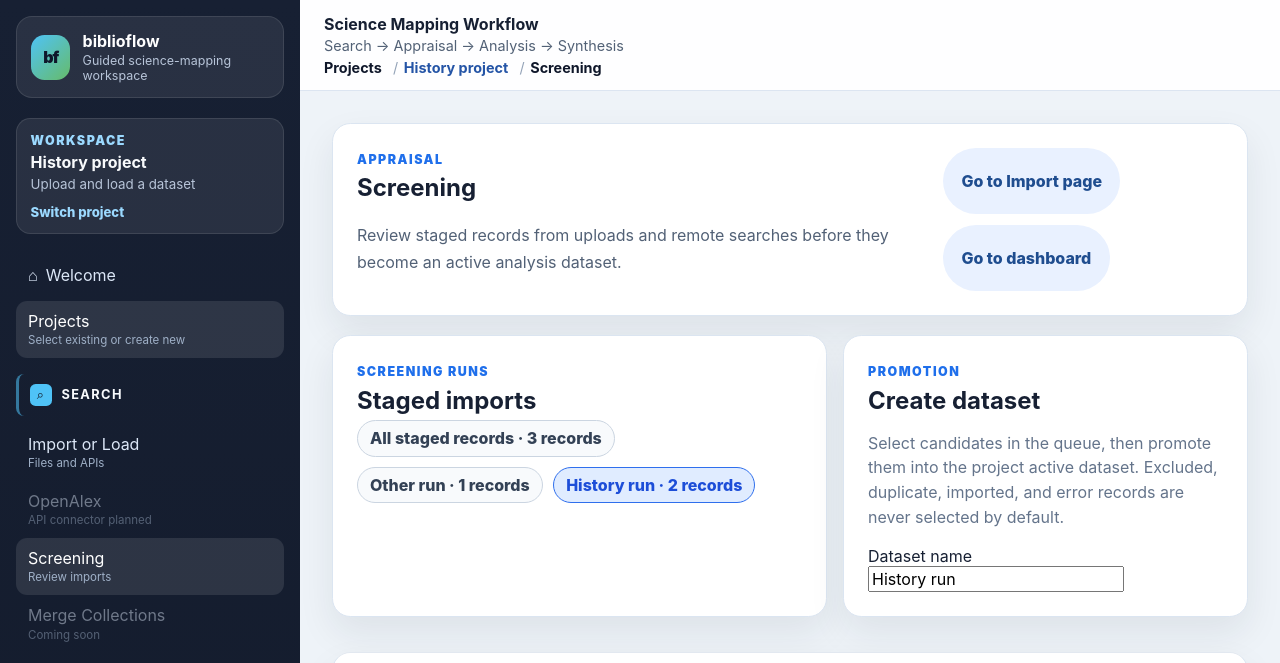
Test: remote source import › reviews staged search history and surfaces screening action errors
The width and height of the screenshot is (1280, 663).
Click the button "History run · 2 records".
click(654, 485)  # box top-left (553, 467), bottom-right (755, 503)
(page scrolled)
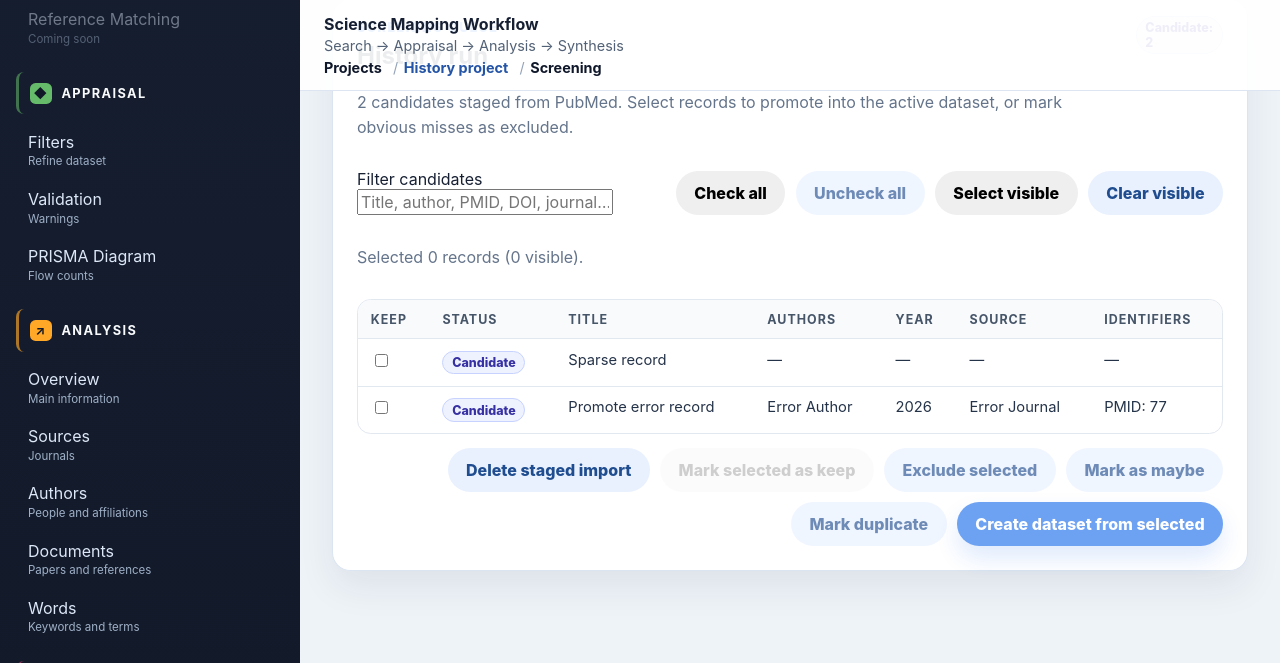
Expected: the text "Sparse record" is shown, top-left (555, 339), bottom-right (754, 386)
Expected: the 1st text "—" is shown, top-left (754, 339), bottom-right (883, 386)
Click the checkbox named "Select Sparse record".
click(381, 360)  # box top-left (375, 354), bottom-right (388, 367)
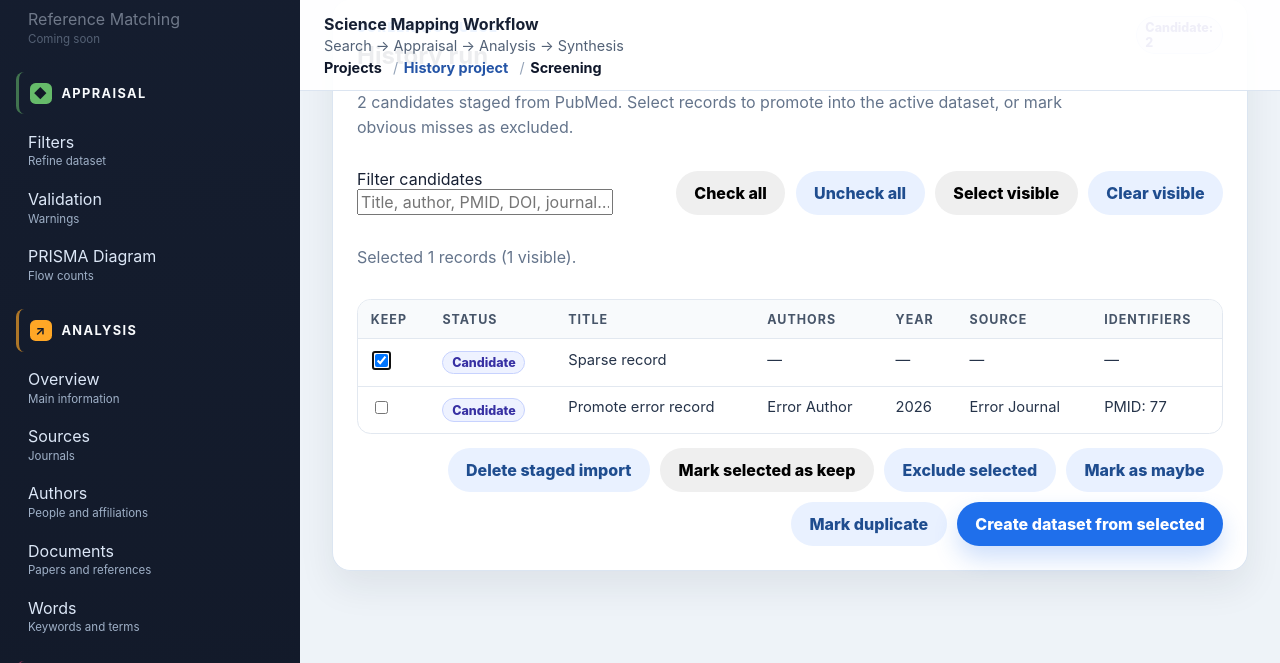
Now the text "Selected 1 records (1 visible)." is shown, box top-left (357, 247), bottom-right (576, 267)
Click the button "Exclude selected".
click(970, 470)  # box top-left (884, 448), bottom-right (1056, 492)
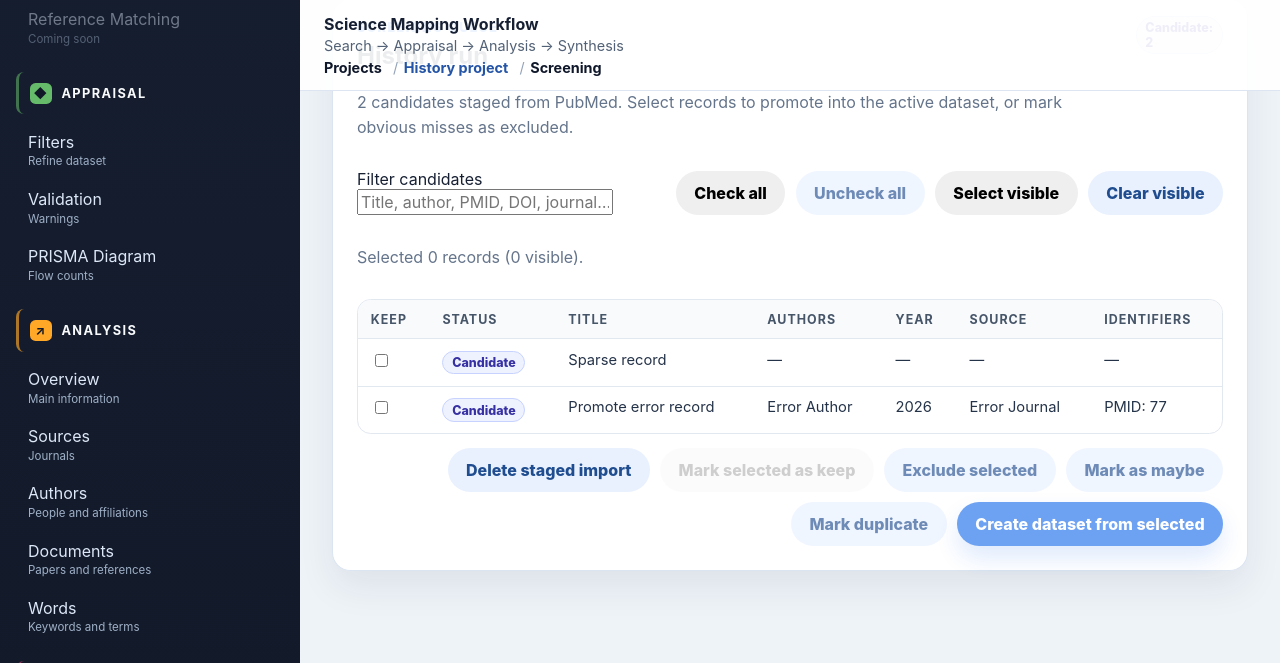
Now the text "Selected 0 records (0 visible)." is shown, box top-left (357, 247), bottom-right (583, 267)
Click the checkbox named "Select Promote error record".
click(381, 408)  # box top-left (375, 401), bottom-right (388, 414)
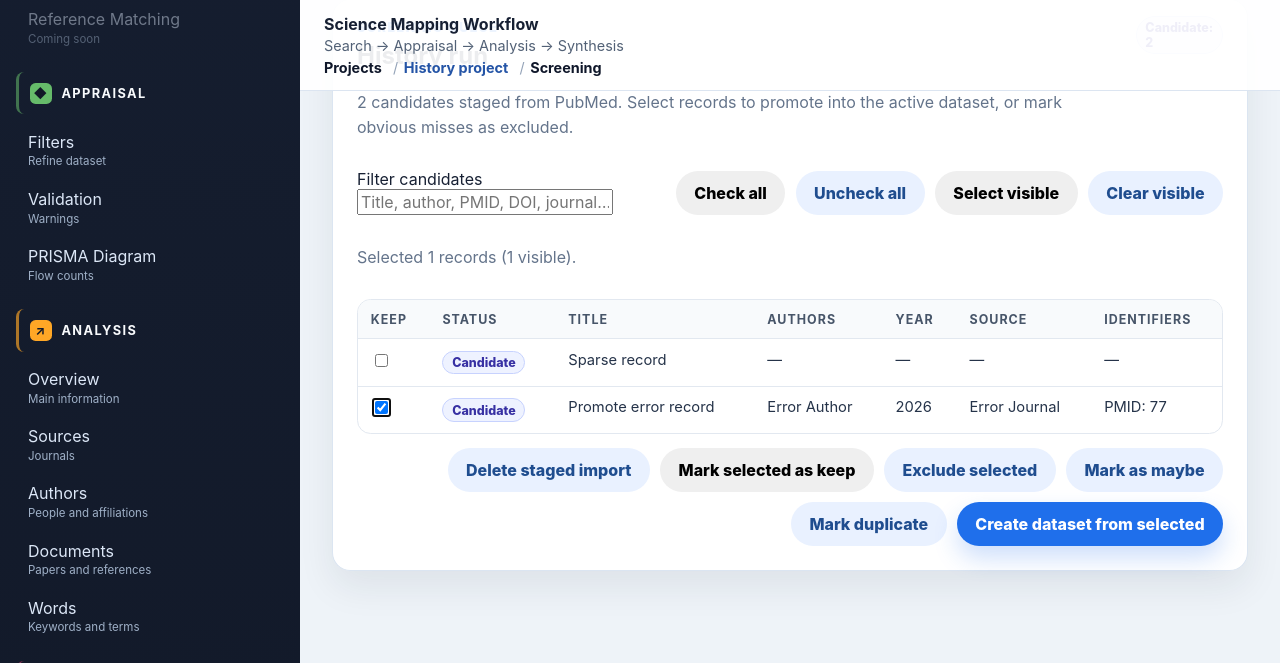
Click the button "Create dataset from selected".
click(1090, 524)  # box top-left (957, 502), bottom-right (1223, 546)
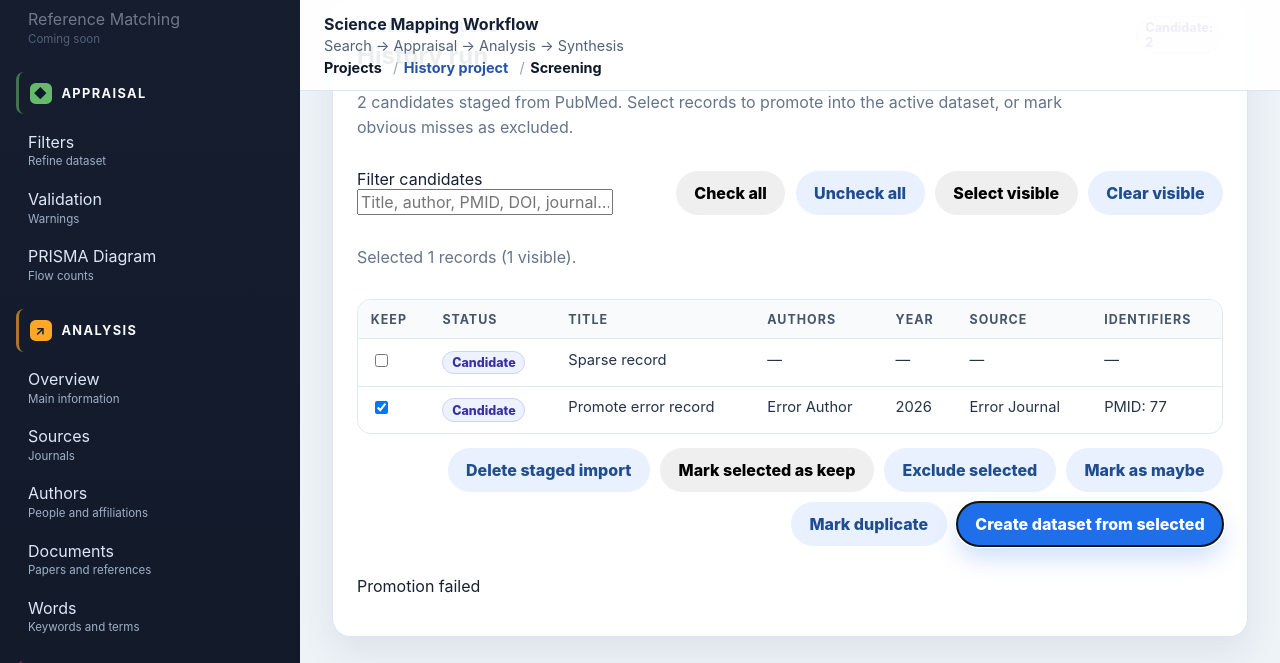
Now the message reads "Promotion failed", box top-left (357, 576), bottom-right (480, 596)
